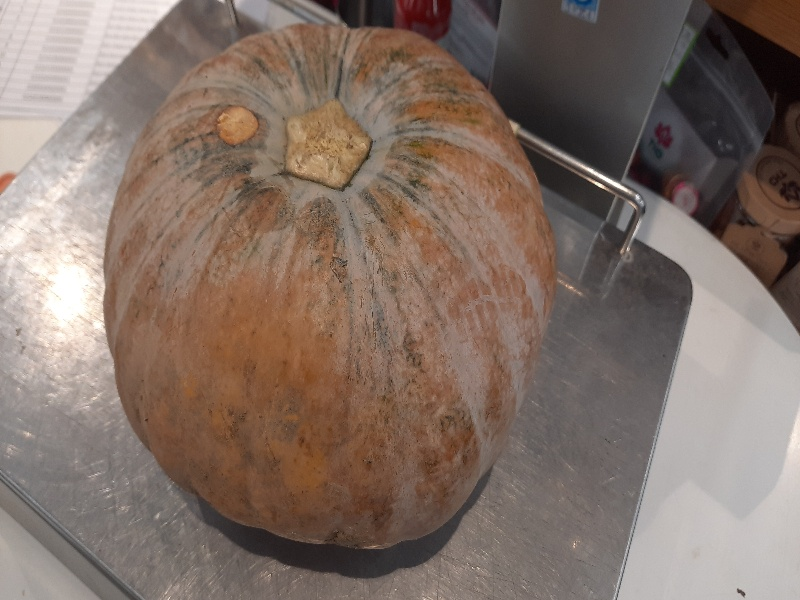vege: (105, 23, 562, 553)
